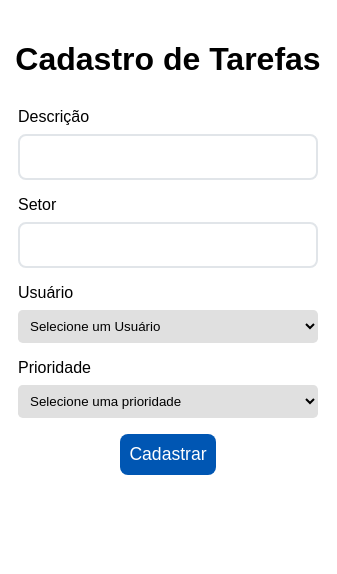
Test case: Cadastro de Tarefas › deve exibir erro ao preencher apenas a descrição
The width and height of the screenshot is (337, 574).
Step 1. Type "Reunião Semanal" into the field labelled "Descrição" → x=168, y=157, box x1=18 y1=134 x2=318 y2=180
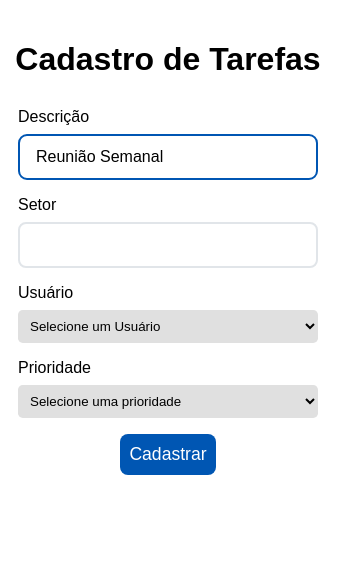
Step 2. Click the button "Cadastrar" → x=168, y=454, box x1=120 y1=434 x2=216 y2=475
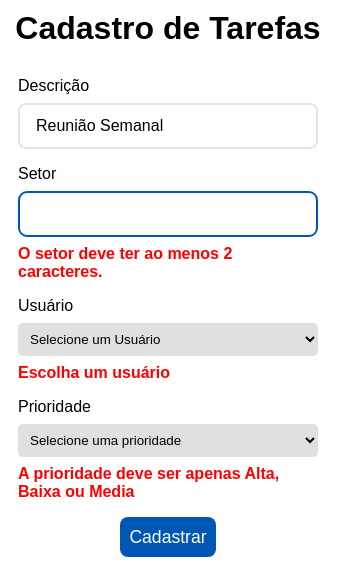
expect the text "O setor deve ter ao menos 2 caracteres." is shown: met, box x1=18 y1=245 x2=232 y2=280
expect the text "Escolha um usuário" is shown: met, box x1=18 y1=364 x2=170 y2=381
expect the text "A prioridade deve ser apenas Alta, Baixa ou Media" is shown: met, box x1=18 y1=465 x2=318 y2=501
